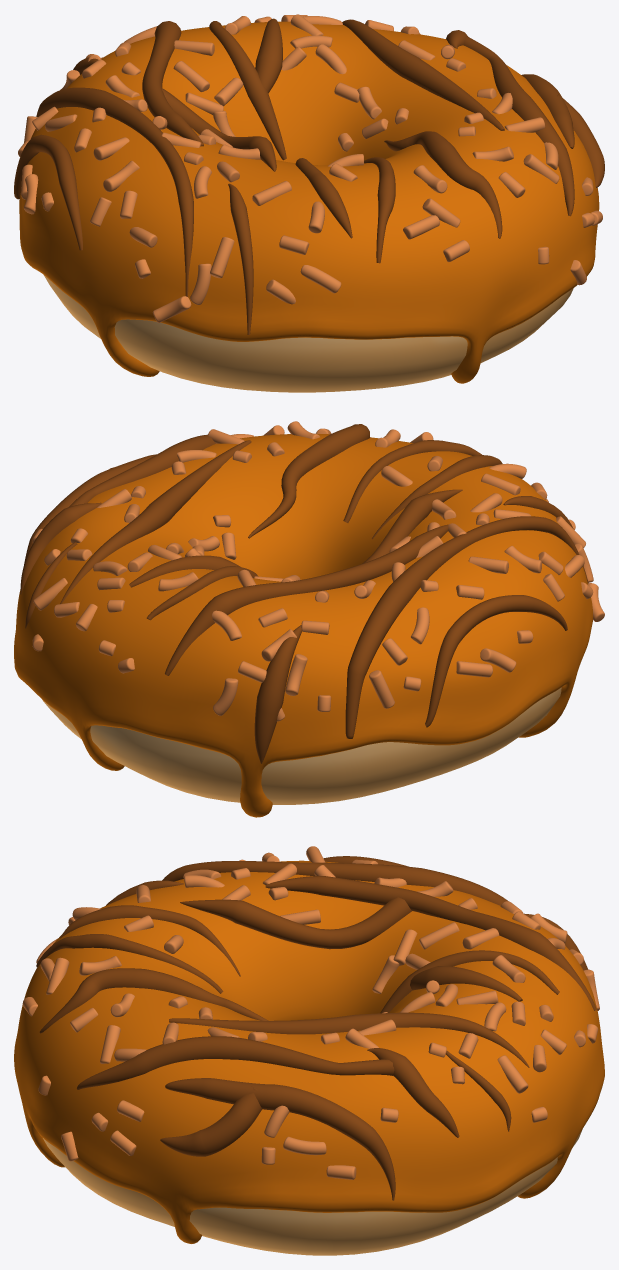
File: OrangeDonut.glb
The picture shows the model from 3 angles, top to bottom: view 1: azimuth 30°, elevation 25°; view 2: azimuth 150°, elevation 25°; view 3: azimuth 270°, elevation 25°; orthographic projection. The views are drawn at different scales.
Parts seen in each view (by area): view 1: Orange Donut.001; view 2: Orange Donut.001; view 3: Orange Donut.001.
Part boxes in pixels (x1,y1,x2,y2): Orange Donut.001: [14, 14, 604, 392]; Orange Donut.001: [14, 421, 604, 817]; Orange Donut.001: [14, 846, 604, 1255].
Bounding box in the file's own units: 0.6505 × 0.2796 × 0.6453.
4 materials, 1 textured.
